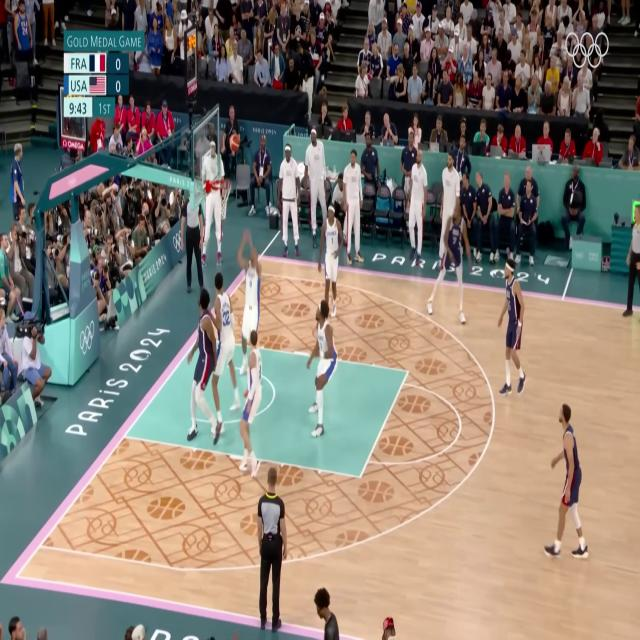player: (550, 395, 592, 588), (432, 205, 480, 337), (207, 258, 241, 422), (187, 281, 217, 464), (304, 300, 339, 450), (493, 257, 526, 405), (243, 326, 270, 490), (235, 219, 266, 356), (315, 199, 342, 317)
